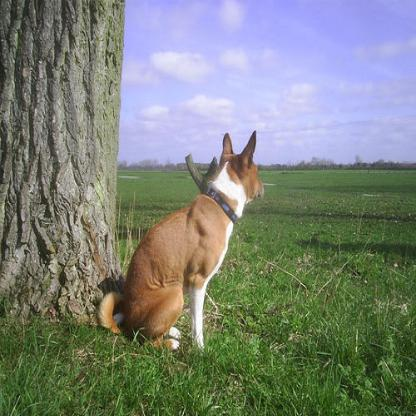dog: (95, 131, 263, 349)
